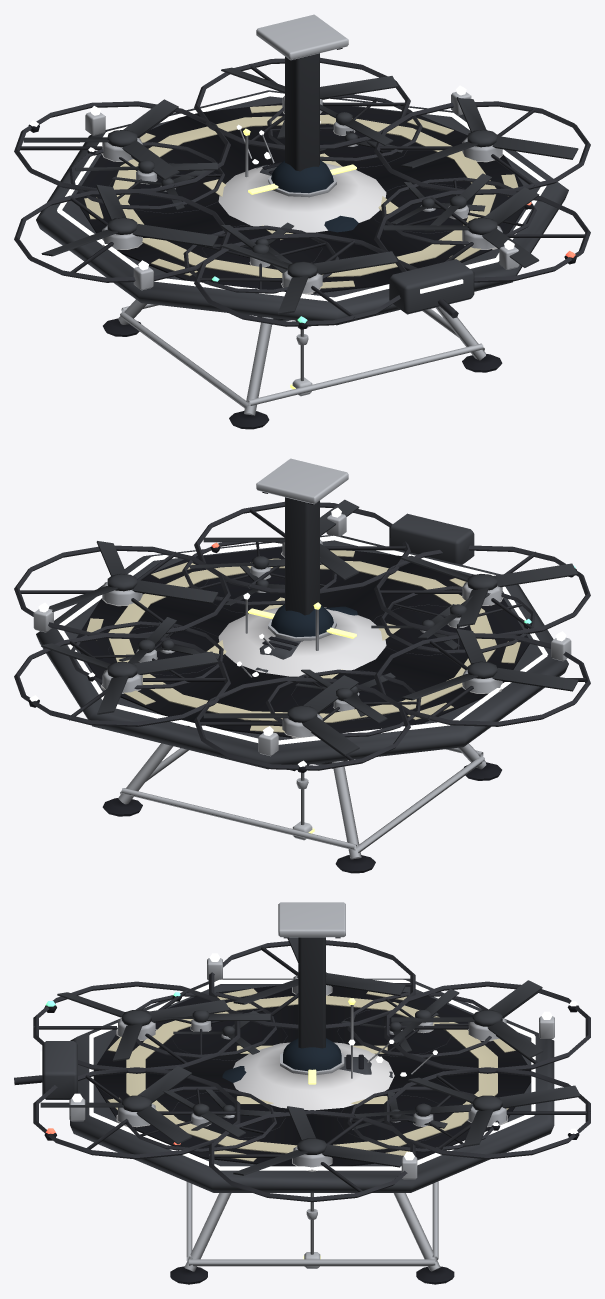
The model's file is drones320lo.glb.
3 views of the same model, one above another, from view 1: azimuth 30°, elevation 25°; view 2: azimuth 150°, elevation 25°; view 3: azimuth 270°, elevation 25° (orthographic). The views are drawn at different scales.
Visible parts, largest first — view 1: d320_pad-dark, d320_pad-comp, d320_hex-carbon, d320_pad-padp, d320_hex-steel, d320_hex-paint, d320_pq-carbon, d320_leg-comp, d320_pad-ledt, d320_leg-steel, d320_hex-fan4, d320_hex-fan5 (+13 smaller); view 2: d320_pad-dark, d320_pad-comp, d320_hex-carbon, d320_hex-steel, d320_pad-padp, d320_hex-paint, d320_pq-carbon, d320_leg-comp, d320_pad-ledt, d320_leg-steel, d320_hex-fan2, d320_hex-fan4 (+11 smaller); view 3: d320_pad-dark, d320_pad-comp, d320_hex-carbon, d320_pad-padp, d320_hex-steel, d320_hex-paint, d320_pq-carbon, d320_pad-ledt, d320_leg-comp, d320_hex-fan2, d320_leg-steel, d320_hex-fan1 (+14 smaller).
Boxes of the visible parts, x1,y1,x2,y2 form: d320_pad-dark: (76,103,524,293); d320_pad-comp: (36,90,568,325); d320_hex-carbon: (14,57,590,326); d320_pad-padp: (84,105,518,288); d320_hex-steel: (102,96,502,415); d320_hex-paint: (218,163,386,232); d320_pq-carbon: (69,94,536,293); d320_leg-comp: (285,53,319,171); d320_pad-ledt: (57,91,546,301); d320_leg-steel: (256,14,348,60); d320_hex-fan4: (41,185,218,256); d320_hex-fan5: (220,243,397,314); d320_pad-dark: (76,547,529,737); d320_pad-comp: (36,513,568,769); d320_hex-carbon: (14,501,590,770); d320_hex-steel: (102,540,502,859); d320_pad-padp: (86,550,520,732); d320_hex-paint: (218,607,386,676); d320_pq-carbon: (69,542,535,737); d320_leg-comp: (285,497,319,615); d320_pad-ledt: (57,535,547,744); d320_leg-steel: (256,458,348,504); d320_hex-fan2: (41,643,217,714); d320_hex-fan4: (401,628,578,700); d320_pad-dark: (93,985,531,1166); d320_pad-comp: (42,978,554,1192); d320_hex-carbon: (33,940,590,1202); d320_pad-padp: (107,988,515,1161); d320_hex-steel: (118,975,506,1271); d320_hex-paint: (233,1042,394,1110); d320_pq-carbon: (126,992,499,1152); d320_pad-ledt: (40,979,535,1170); d320_leg-comp: (298,937,325,1048); d320_hex-fan2: (408,1077,580,1147); d320_leg-steel: (278,902,345,937); d320_hex-fan1: (233,1106,403,1175).
Size of the model in its own units: 3.11 by 1.95 by 2.91.
